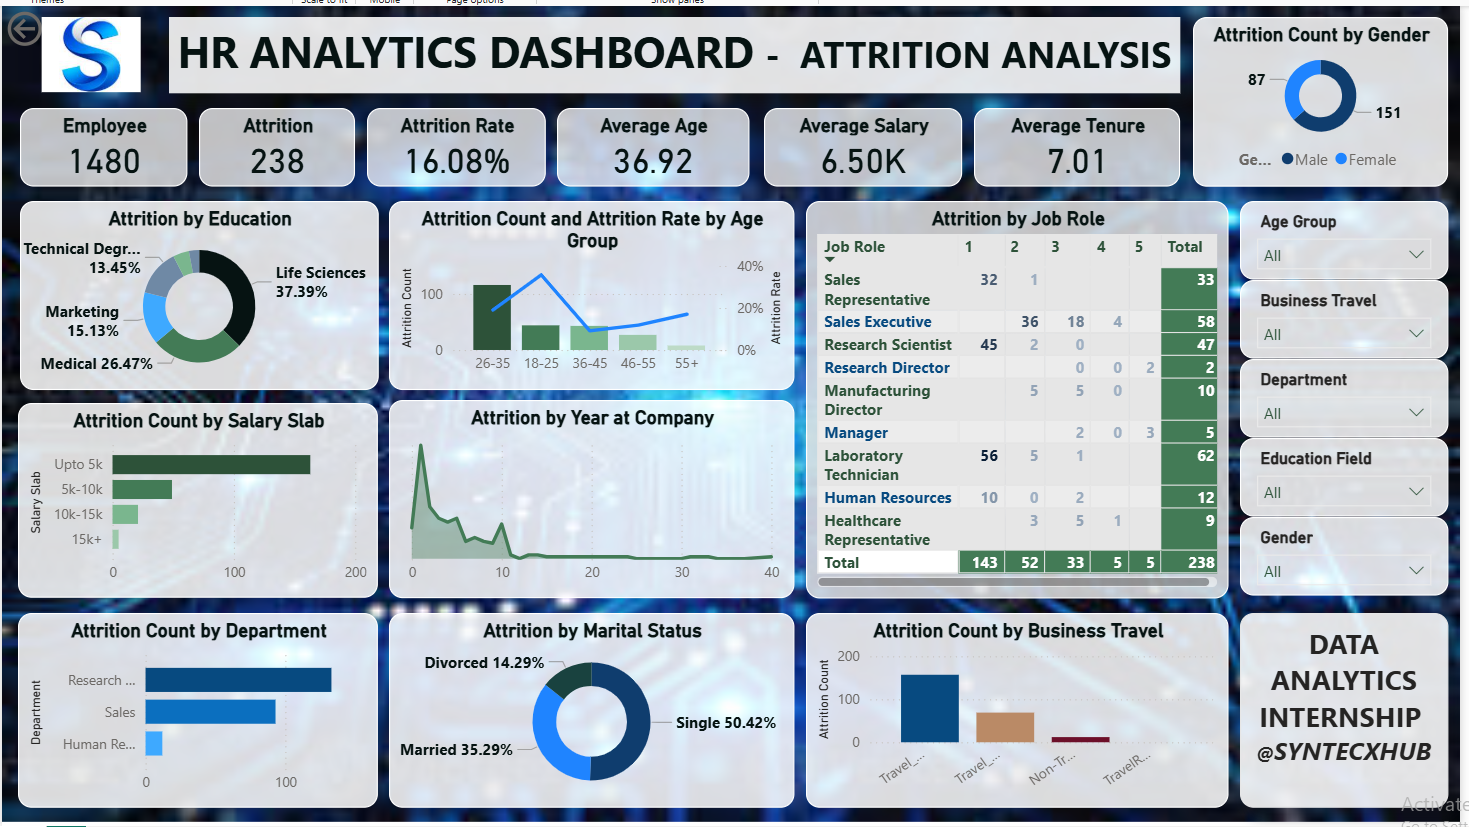

The dashboard page shown, as its layout file describes it:
{"tool":"powerbi","page":{"name":"Page 1","canvas":[1280,720],"ordinal":0},"visuals":[{"type":"textbox","box":[146.6,9.7,887.7,66.7],"z":0},{"type":"card","title":"Employee","fields":{"Values":["CountNonNull(HR_Analytics - Cleaned.EmpID)"]},"box":[15.6,89.3,147.4,69.4],"z":1000},{"type":"card","title":"Attrition","fields":{"Values":["Sum(HR_Analytics - Cleaned.Attrition Count)"]},"box":[172.9,89.3,137.5,69.4],"z":2000},{"type":"card","title":"Attrition Rate","fields":{"Values":["HR_Analytics - Cleaned.Attrition Rate"]},"box":[320.3,89.3,157.3,69.4],"z":3000},{"type":"card","title":"Average Age","fields":{"Values":["Avg(HR_Analytics - Cleaned.Age)"]},"box":[487.6,89.3,168.7,69.4],"z":4000},{"type":"card","title":"Average Salary","fields":{"Values":["Avg(HR_Analytics - Cleaned.Monthly Income)"]},"box":[669,89.3,174.3,69.4],"z":5000},{"type":"card","title":"Average Tenure","fields":{"Values":["Avg(HR_Analytics - Cleaned.Years At Company)"]},"box":[853.2,89.3,181.4,69.4],"z":6000},{"type":"donutChart","title":"Attrition Count by Gender","fields":{"Y":["Sum(HR_Analytics - Cleaned.Attrition Count)"],"Category":["HR_Analytics - Cleaned.Gender"]},"box":[1046,9.9,223.9,148.8],"z":7000},{"type":"donutChart","title":"Attrition by Education","fields":{"Y":["Sum(HR_Analytics - Cleaned.Attrition Count)"],"Category":["HR_Analytics - Cleaned.EducationF ield","HR_Analytics - Cleaned.Years At Company"]},"box":[15.6,171.5,314.6,165.8],"z":8000},{"type":"lineStackedColumnComboChart","title":"Attrition Count and Attrition Rate by Age Group","fields":{"Category":["HR_Analytics - Cleaned.Age Group"],"Y":["Sum(HR_Analytics - Cleaned.Attrition Count)"],"Y2":["HR_Analytics - Cleaned.Attrition Rate"]},"box":[340.2,171.5,355.7,165.8],"z":9000},{"type":"pivotTable","title":"Attrition by Job Role","fields":{"Rows":["HR_Analytics - Cleaned.Job Role"],"Columns":["HR_Analytics - Cleaned.Job Level"],"Values":["Sum(HR_Analytics - Cleaned.Attrition Count)"]},"box":[706,171.2,371.4,348.6],"z":10000},{"type":"barChart","title":"Attrition Count by Salary Slab","fields":{"Y":["Sum(HR_Analytics - Cleaned.Attrition Count)"],"Category":["HR_Analytics - Cleaned.Salary Slab"]},"box":[14.2,348.7,316.1,171.5],"z":11000},{"type":"barChart","title":"Attrition Count by Department","fields":{"Y":["Sum(HR_Analytics - Cleaned.Attrition Count)"],"Category":["HR_Analytics - Cleaned.Department"]},"box":[14.2,532.9,316.1,171.5],"z":12000},{"type":"areaChart","title":"Attrition by Year at Company","fields":{"Category":["HR_Analytics - Cleaned.Years At Company"],"Y":["Sum(HR_Analytics - Cleaned.Attrition Count)"]},"box":[340.2,345.8,355.7,174.3],"z":13000},{"type":"donutChart","title":"Attrition by Marital Status","fields":{"Y":["Sum(HR_Analytics - Cleaned.Attrition Count)"],"Category":["HR_Analytics - Cleaned.Marital Status"]},"box":[340.2,532.9,355.7,171.5],"z":14000},{"type":"columnChart","title":"Attrition Count by Business Travel","fields":{"Y":["Sum(HR_Analytics - Cleaned.Attrition Count)"],"Category":["HR_Analytics - Cleaned.Business Travel"]},"box":[705.8,532.9,371.3,171.5],"z":15000},{"type":"slicer","fields":{"Values":["HR_Analytics - Cleaned.Age Group"]},"box":[1087,171.2,182.6,69.4],"z":16000},{"type":"slicer","fields":{"Values":["HR_Analytics - Cleaned.Business Travel"]},"box":[1087,240.6,182.6,69.4],"z":17000},{"type":"slicer","fields":{"Values":["HR_Analytics - Cleaned.Department"]},"box":[1087,310,182.6,69.4],"z":18000},{"type":"slicer","fields":{"Values":["HR_Analytics - Cleaned.EducationF ield"]},"box":[1087,379.3,182.6,69.4],"z":19000},{"type":"textbox","box":[1087,533,182.6,171.2],"z":20000},{"type":"slicer","fields":{"Values":["HR_Analytics - Cleaned.Gender"]},"box":[1087,448.7,182.6,69.4],"z":21000},{"type":"actionButton","box":[0,0,100,40],"z":22000},{"type":"image","box":[15.8,9.7,124.7,65.9],"z":23000}]}

Visuals, with their boxes in screenshot pixels (x1, y1, x2, y2):
textbox: (170,15,1174,90)
"Employee" card: (21,105,188,183)
"Attrition" card: (200,105,355,183)
"Attrition Rate" card: (366,105,544,183)
"Average Age" card: (556,105,747,183)
"Average Salary" card: (761,105,958,183)
"Average Tenure" card: (969,105,1175,183)
"Attrition Count by Gender" donutChart: (1188,15,1441,183)
"Attrition by Education" donutChart: (21,198,378,386)
"Attrition Count and Attrition Rate by Age Group" lineStackedColumnComboChart: (389,198,791,386)
"Attrition by Job Role" pivotTable: (803,198,1223,592)
"Attrition Count by Salary Slab" barChart: (20,398,378,593)
"Attrition Count by Department" barChart: (20,607,378,801)
"Attrition by Year at Company" areaChart: (389,395,791,592)
"Attrition by Marital Status" donutChart: (389,607,791,801)
"Attrition Count by Business Travel" columnChart: (803,607,1223,801)
slicer - HR_Analytics - Cleaned.Age Group: (1234,198,1441,276)
slicer - HR_Analytics - Cleaned.Business Travel: (1234,276,1441,355)
slicer - HR_Analytics - Cleaned.Department: (1234,355,1441,433)
slicer - HR_Analytics - Cleaned.EducationF ield: (1234,433,1441,512)
textbox: (1234,607,1441,801)
slicer - HR_Analytics - Cleaned.Gender: (1234,512,1441,590)
actionButton: (4,4,117,49)
image: (22,15,163,89)
